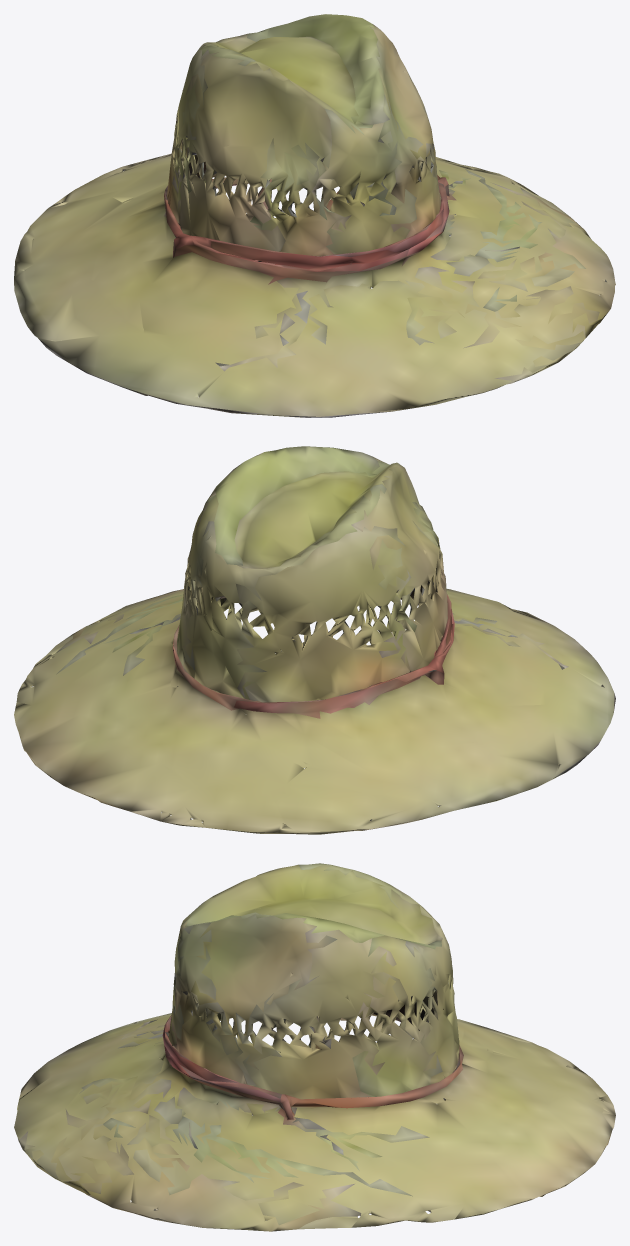
The model's file is DPC_tropical_Trends_Hat-medium.glb.
3 renders of one model, top to bottom at view 1: azimuth 30°, elevation 25°; view 2: azimuth 150°, elevation 25°; view 3: azimuth 270°, elevation 25°, orthographic. The views are drawn at different scales.
Parts seen in each view (by area): view 1: DPC_tropical_Trends_Hat; view 2: DPC_tropical_Trends_Hat; view 3: DPC_tropical_Trends_Hat.
Part boxes in pixels (x1,y1,x2,y2): DPC_tropical_Trends_Hat: (14, 14, 615, 417); DPC_tropical_Trends_Hat: (14, 446, 615, 834); DPC_tropical_Trends_Hat: (14, 863, 615, 1231).
Size of the model in its own units: 0.3758 by 0.1716 by 0.4038.
1 material, 1 textured.
